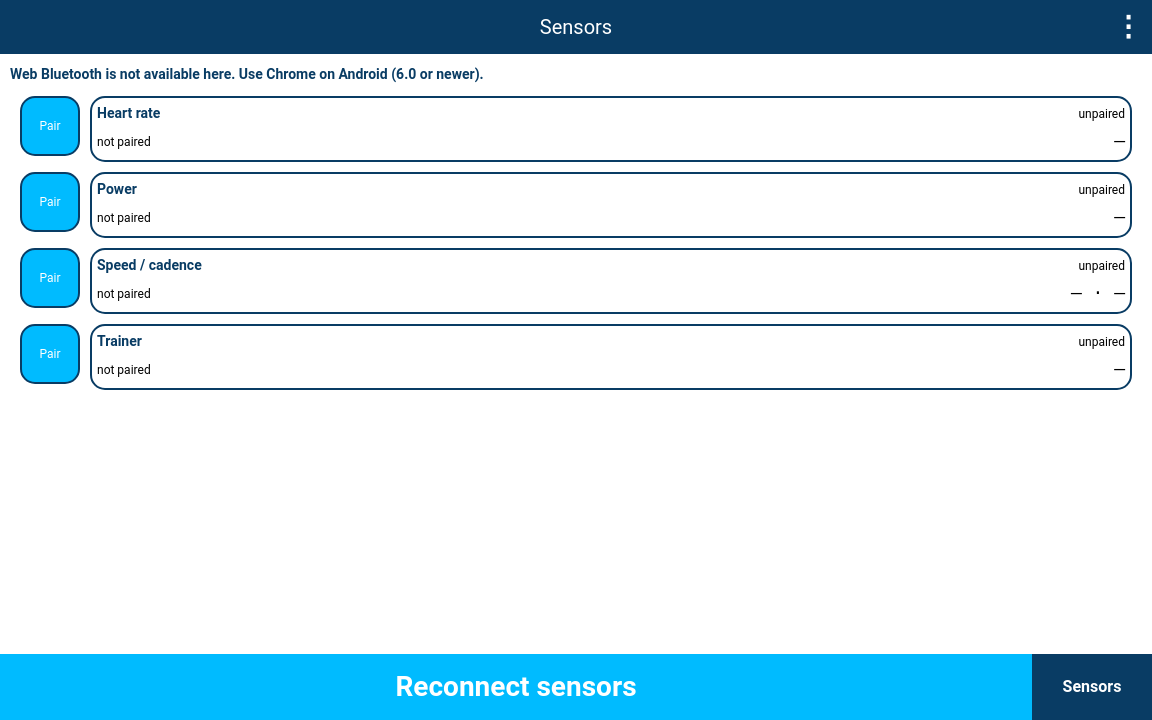
Scenario: SensorsScreen › top-right menu lists Sensor Configuration and pairs through the same flow
Check: the text "Sensor Configuration" is not shown
Click the button named "Sensor menu" at (1128, 27), box [1104,0,1151,55]
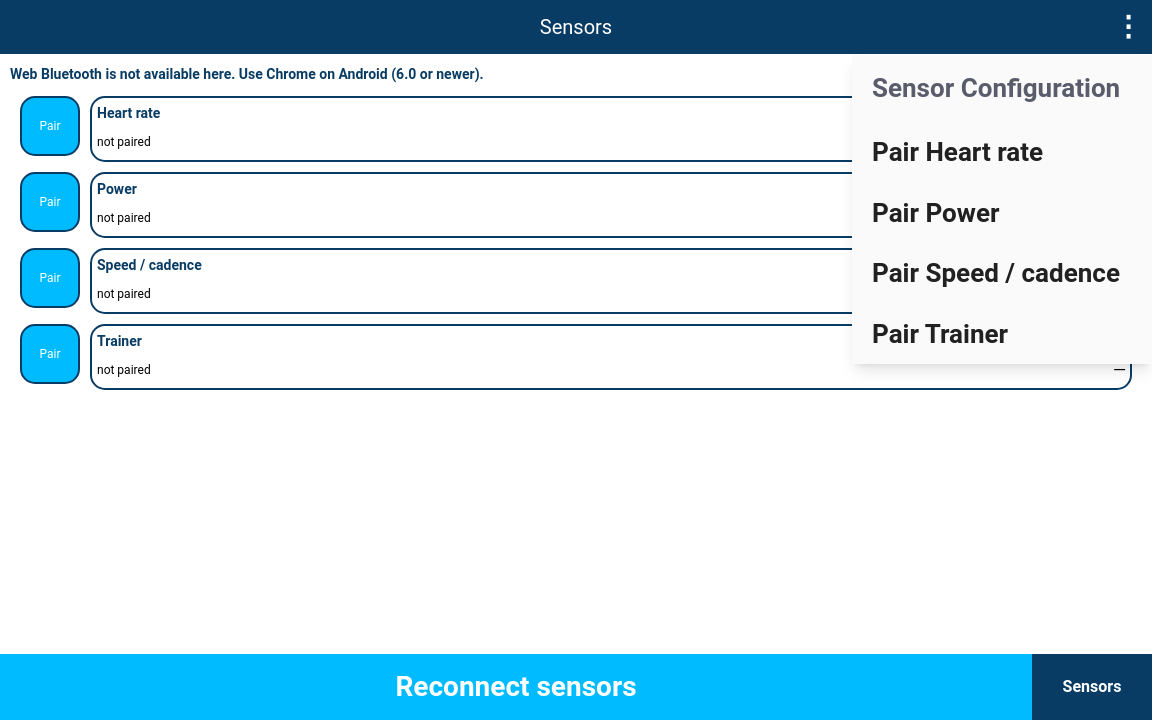
Check: the text "Sensor Configuration" is shown, box [872,73,1120,103]
Click the button with aria-label "Menu: pair Heart rate" at (1002, 152), box [852,122,1151,182]
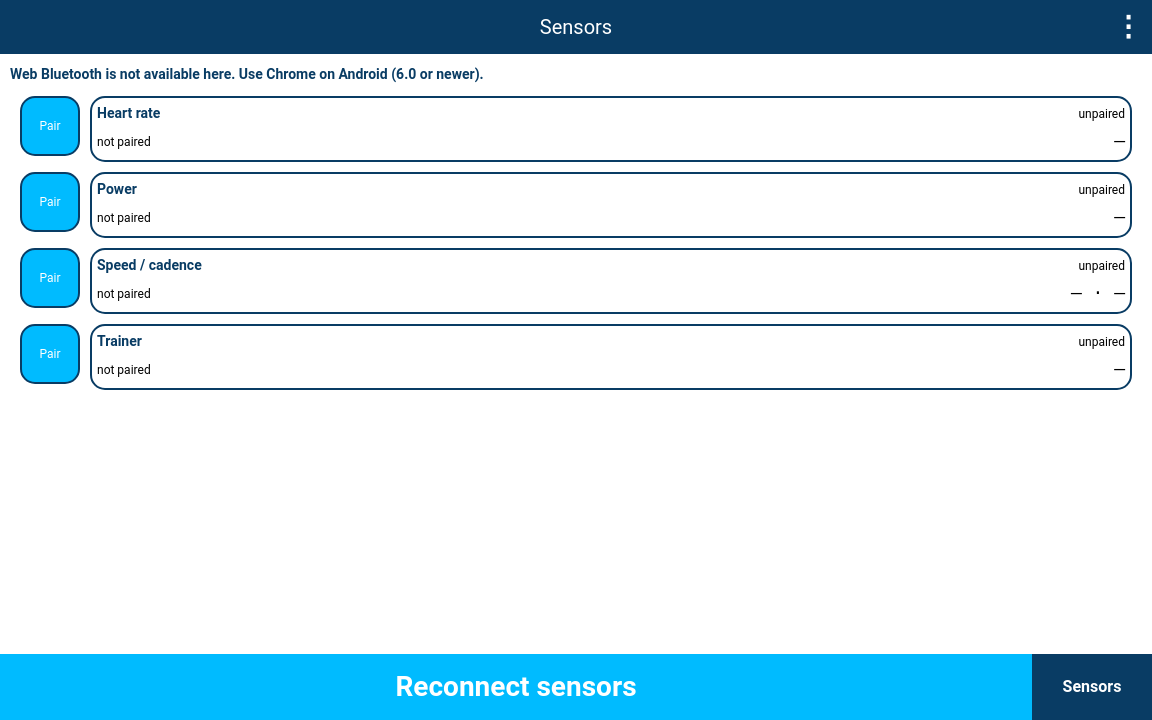
Check: the text "Sensor Configuration" is gone
